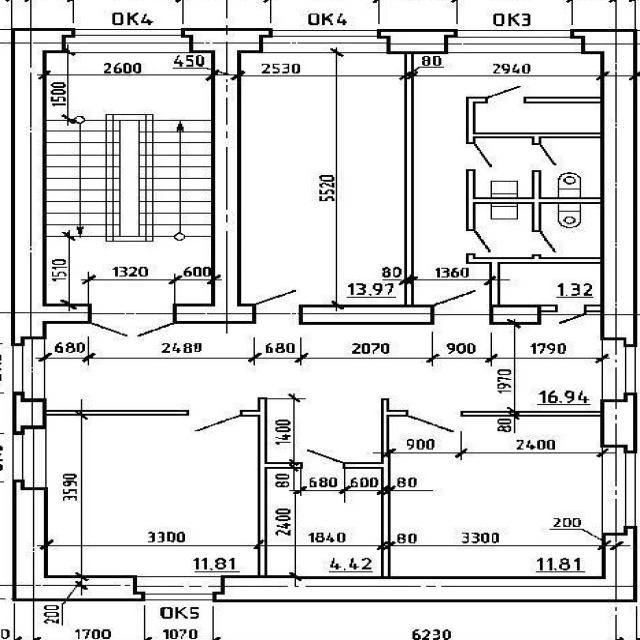Bathrooms: (542, 139, 599, 197), (477, 139, 531, 198), (541, 204, 600, 257), (475, 204, 532, 257)
Corridors: (46, 312, 600, 461), (413, 53, 600, 304), (269, 469, 382, 576), (48, 242, 211, 305), (501, 263, 600, 304), (475, 102, 601, 132)
Doors: (90, 304, 175, 339), (432, 287, 490, 323), (254, 287, 301, 326), (405, 410, 461, 438), (187, 409, 241, 434), (303, 446, 347, 467), (484, 83, 524, 103), (555, 304, 587, 328), (531, 143, 560, 169), (467, 143, 496, 169), (532, 230, 561, 255), (466, 228, 494, 253)
LBwalls: (212, 525, 639, 602), (173, 28, 274, 324), (11, 27, 92, 346), (570, 29, 638, 347), (12, 479, 146, 602), (299, 304, 434, 325), (599, 391, 637, 454), (376, 28, 459, 55), (12, 391, 48, 435), (490, 304, 542, 325)
Offices: (241, 52, 404, 304), (388, 417, 602, 577), (48, 416, 259, 575)
Stairs: (47, 53, 211, 242)
Walls: (343, 398, 409, 578), (240, 397, 304, 577), (466, 169, 602, 232), (466, 253, 602, 304), (466, 97, 602, 146), (404, 53, 414, 305), (46, 410, 188, 416), (459, 411, 601, 416), (524, 97, 602, 102), (539, 304, 559, 312), (585, 304, 602, 312)
Windows: (66, 28, 190, 53), (448, 30, 582, 53), (601, 447, 636, 533), (264, 30, 388, 53), (136, 576, 221, 601), (12, 339, 46, 399), (601, 341, 636, 399), (15, 429, 48, 488)
